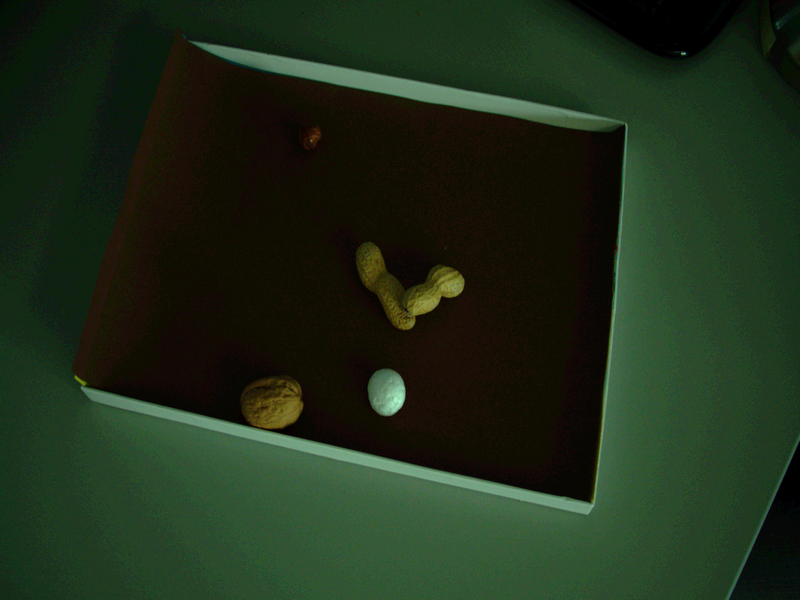walnut: (230, 366, 315, 437)
